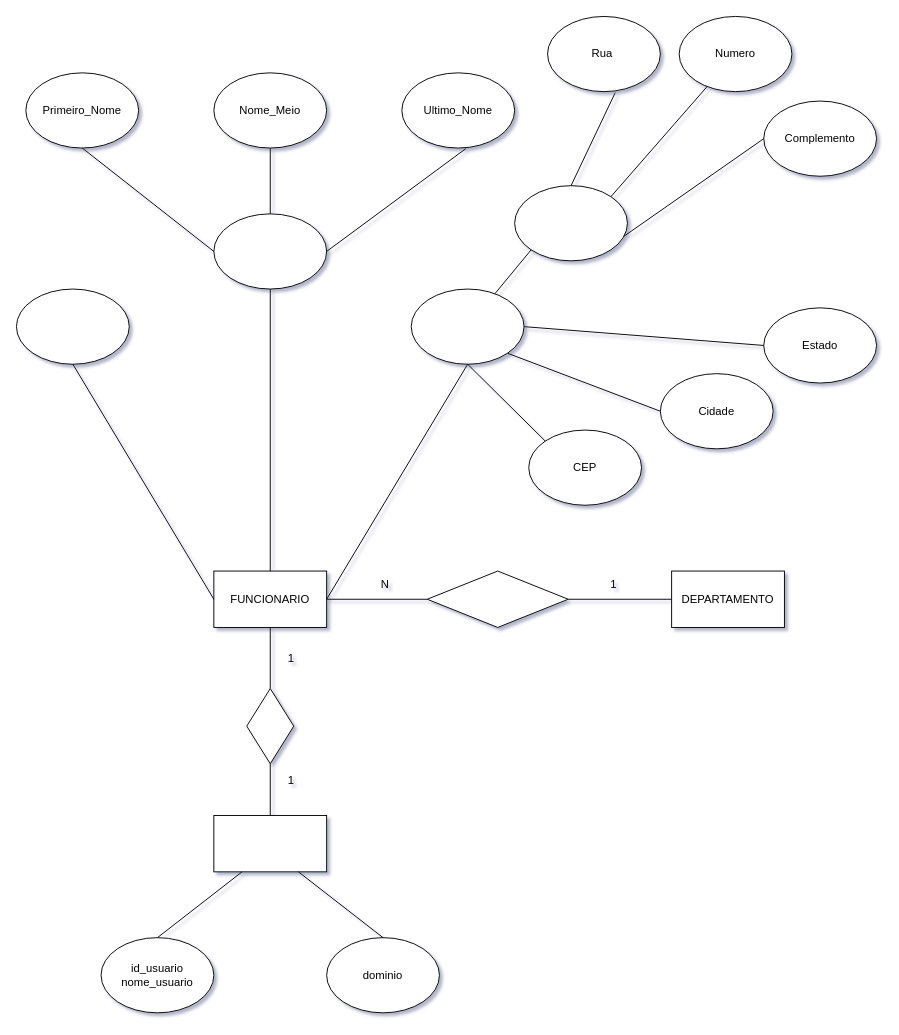
Some shapes in this 899 by 1035 pixel diagram are drawn without their labels. The centre of each missing label's shape, as x and y in pixels:
"CPF" goes at point 72,326.
"Endereço" goes at point 467,326.
"Logradouro" goes at point 570,223.
"Nome" goes at point 270,251.
"POSSUI" goes at point 270,726.
"TRABALHA_PARA" goes at point 497,598.
"USUARIO" goes at point 270,843.
